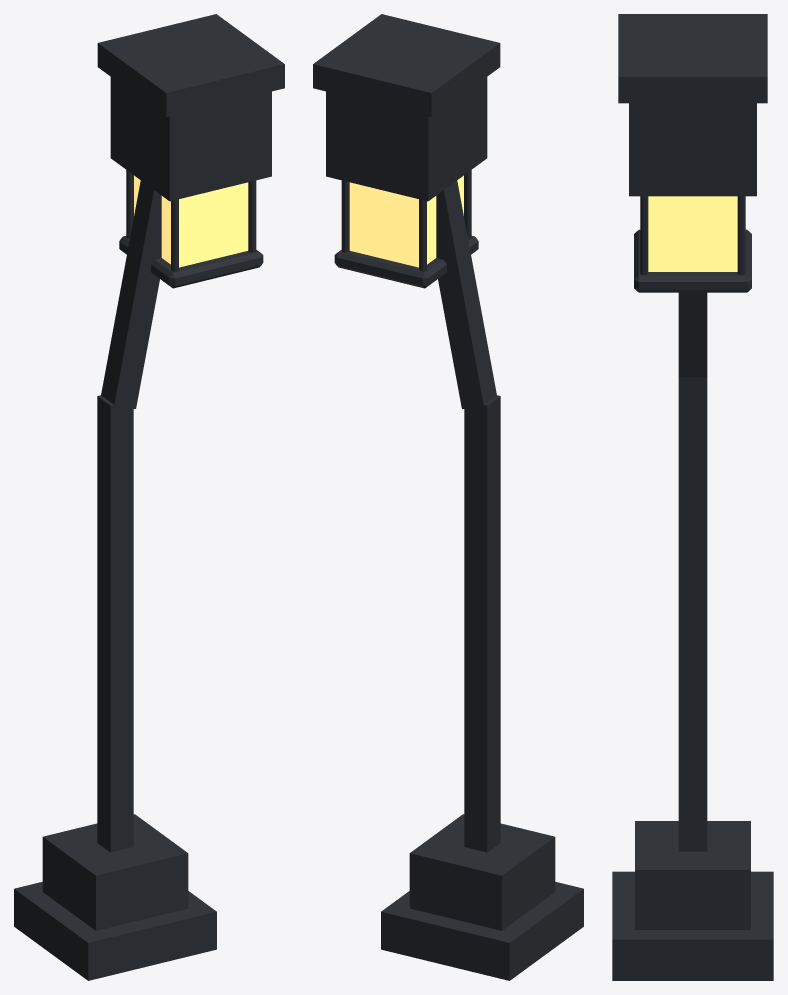
Rendered from street-lamp.glb.
3 views of the same model, side by side, from view 1: azimuth 30°, elevation 25°; view 2: azimuth 150°, elevation 25°; view 3: azimuth 270°, elevation 25° (orthographic). The views are drawn at different scales.
Parts seen in each view (by area): view 1: Bent_street_lamp_surface, Bent_street_lamp; view 2: Bent_street_lamp_surface, Bent_street_lamp; view 3: Bent_street_lamp_surface, Bent_street_lamp.
Boxes of the visible parts, x1,y1,x2,y2 form: Bent_street_lamp_surface: (14,14,284,980); Bent_street_lamp: (134,175,248,267); Bent_street_lamp_surface: (313,14,583,980); Bent_street_lamp: (349,175,463,267); Bent_street_lamp_surface: (612,14,773,980); Bent_street_lamp: (648,196,737,271).
Bounding box in the file's own units: 1.21 × 5.02 × 0.78.
